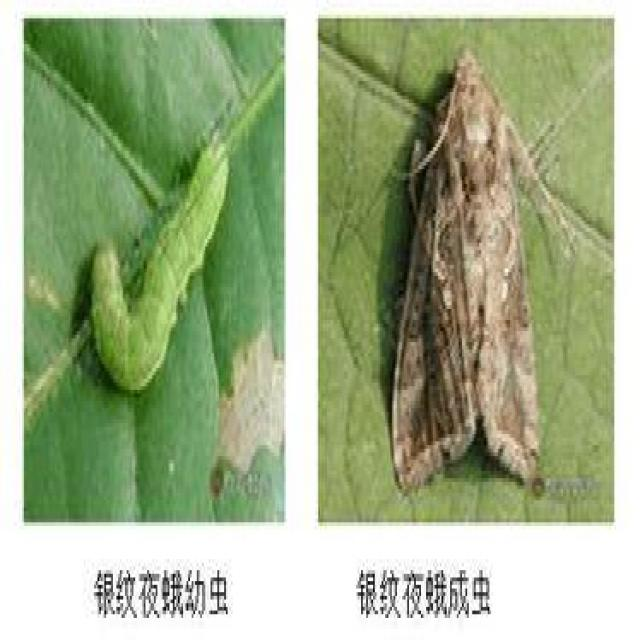armyworm: (395, 36, 566, 514), (88, 127, 233, 395)
